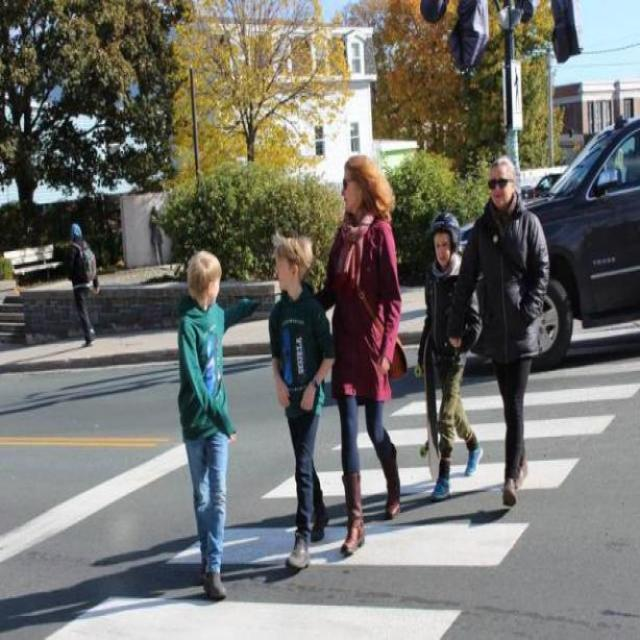pedestrian lane: (49, 359, 640, 640)
